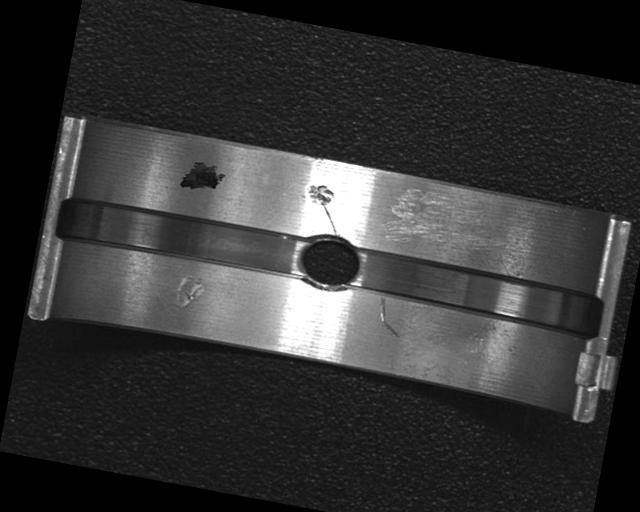blot: (178, 159, 227, 196)
bruise: (170, 272, 208, 315), (303, 182, 338, 209)
gap: (352, 246, 604, 341), (55, 190, 307, 285)
hole: (293, 226, 367, 298)
nick: (373, 297, 406, 337), (314, 201, 345, 237)
scratch: (384, 185, 514, 265)
